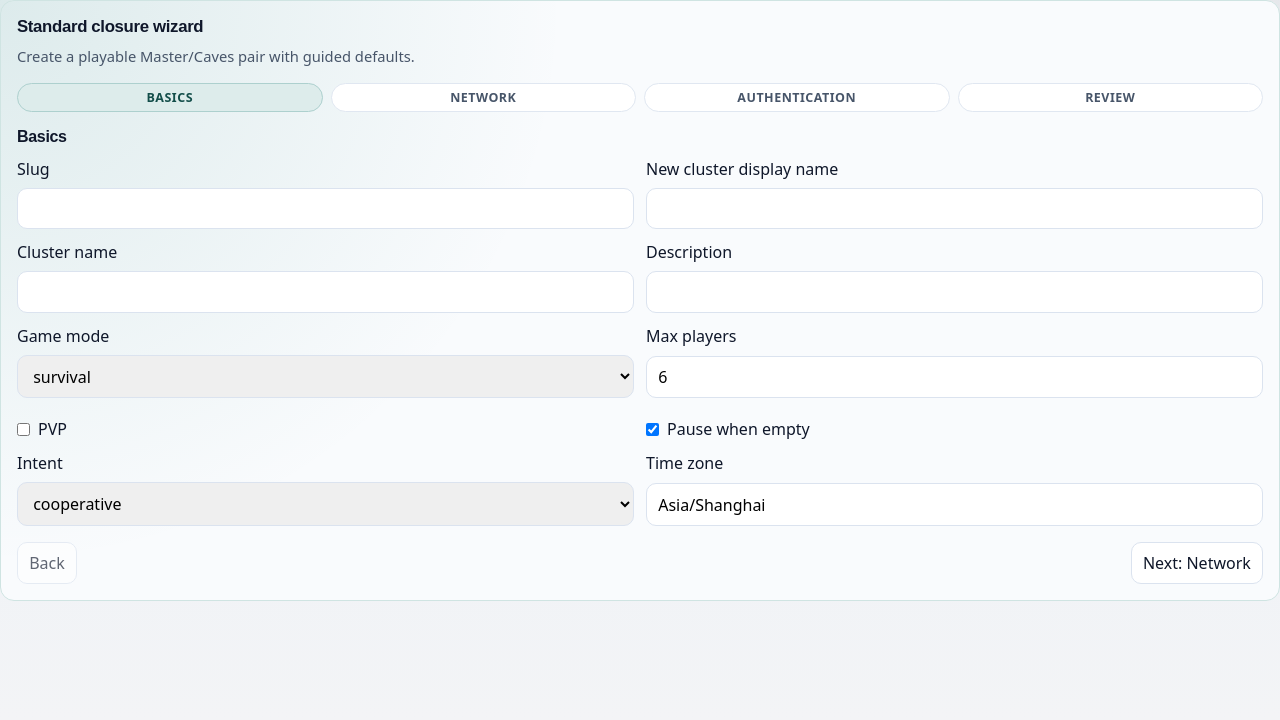
Test: CreateClusterWizard › blocks moving forward when basics are incomplete
Expected: the heading "Basics" is shown, [17, 128, 67, 145]
Click the button "Next: Network".
click(1197, 563)  # box [1131, 542, 1263, 584]
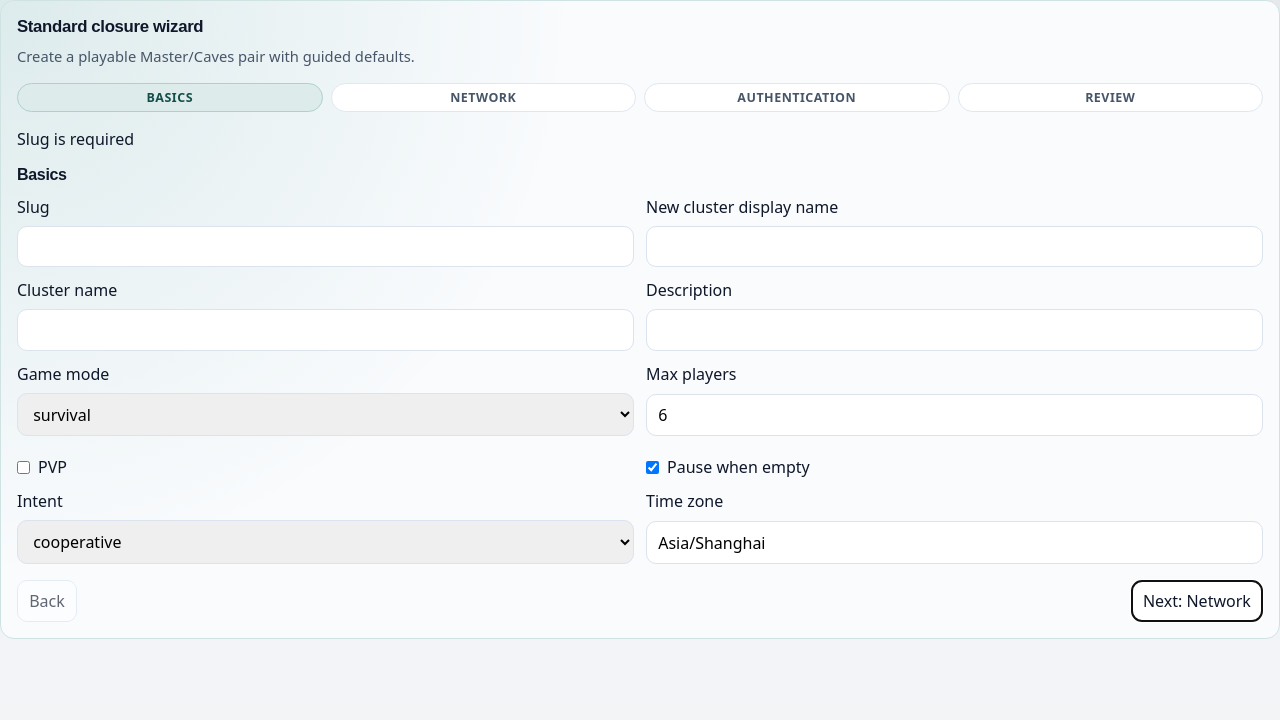
Expected: the heading "Basics" is shown, [17, 166, 67, 183]
Expected: the message reads "Slug is required", [17, 128, 134, 150]
